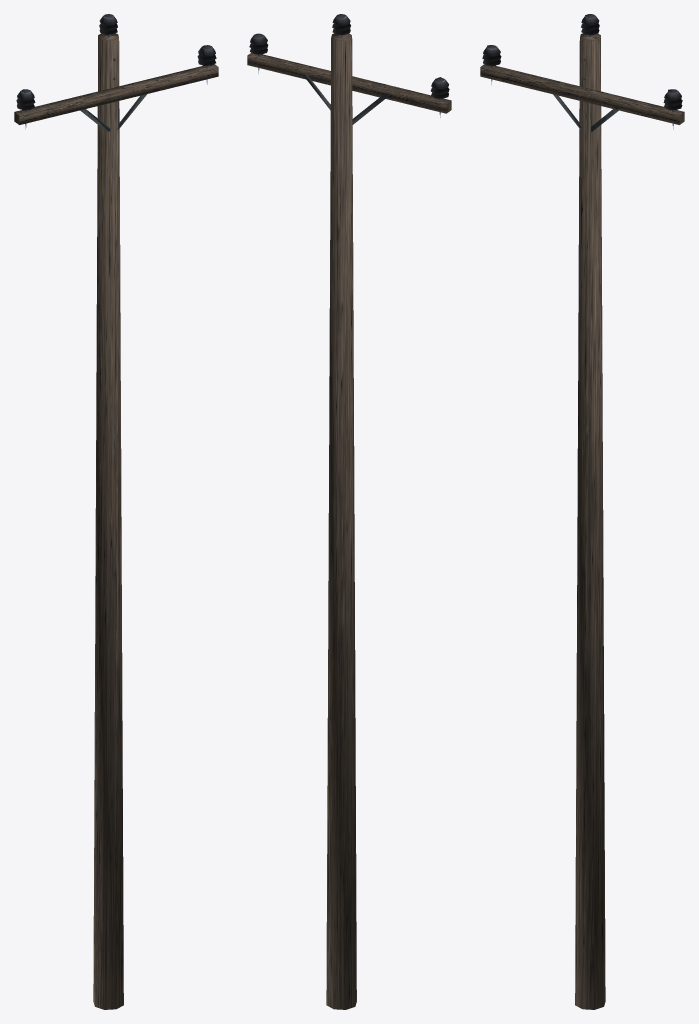
Rendered from pole_wood_c_lod_1.glb.
3 views of the same model, side by side, from view 1: azimuth 30°, elevation 25°; view 2: azimuth 150°, elevation 25°; view 3: azimuth 330°, elevation 25° (orthographic).
Parts seen in each view (by area): view 1: pole_wood_c_lod_1; view 2: pole_wood_c_lod_1; view 3: pole_wood_c_lod_1.
Boxes of the visible parts, box(x1,y1,x2,y2) form: pole_wood_c_lod_1: box(14, 14, 218, 1009); pole_wood_c_lod_1: box(247, 14, 451, 1009); pole_wood_c_lod_1: box(480, 14, 684, 1009).
Size of the model in its own units: 2.2 by 10.42 by 0.3954.
2 materials, 2 textured.
